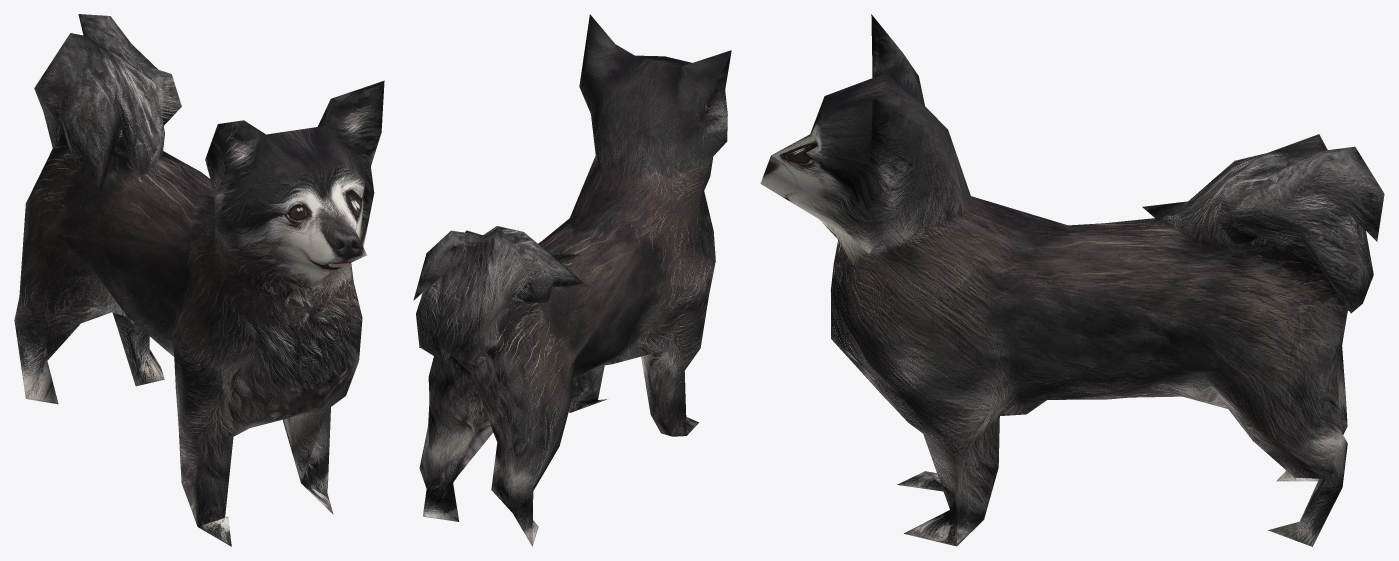
File: PS1Nyx.glb
The picture shows the model from 3 angles, left to right: view 1: azimuth 30°, elevation 25°; view 2: azimuth 150°, elevation 25°; view 3: azimuth 270°, elevation 25°; orthographic projection. The views are drawn at different scales.
Size of the model in its own units: 0.6337 by 1.6 by 1.96.
1 material, 1 textured.
